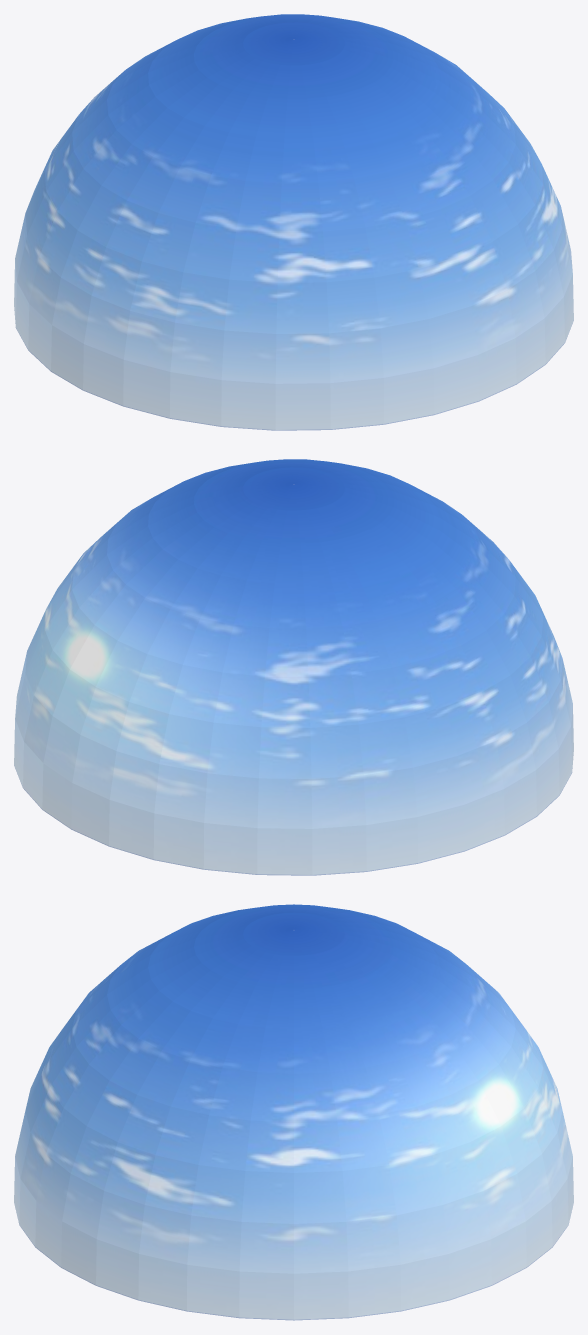
The model's file is lugar-marsella-ciudad.glb.
3 views of the same model, one above another, from view 1: azimuth 30°, elevation 25°; view 2: azimuth 150°, elevation 25°; view 3: azimuth 270°, elevation 25° (orthographic).
Visible parts, largest first — view 1: planoC; view 2: planoC; view 3: planoC.
Boxes of the visible parts, <box> form: planoC: <box>14,14,573,430</box>; planoC: <box>14,459,573,875</box>; planoC: <box>14,904,573,1320</box>.
Bounding box in the file's own units: 6384 × 3423 × 6384.
34 materials, 18 textured.
